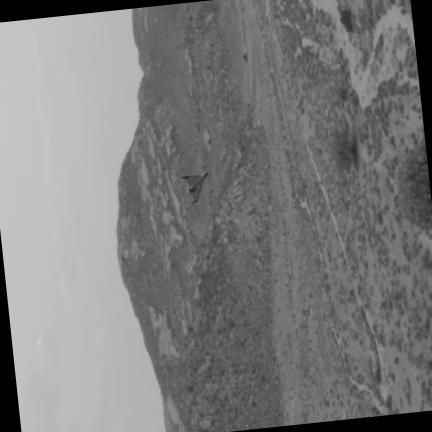Shahed: (183, 171, 207, 201)
